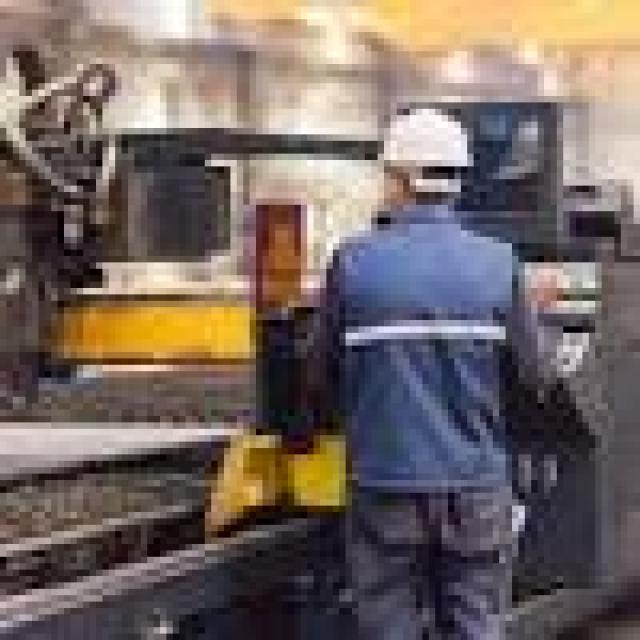Safety-Helmet: (358, 96, 493, 186)
